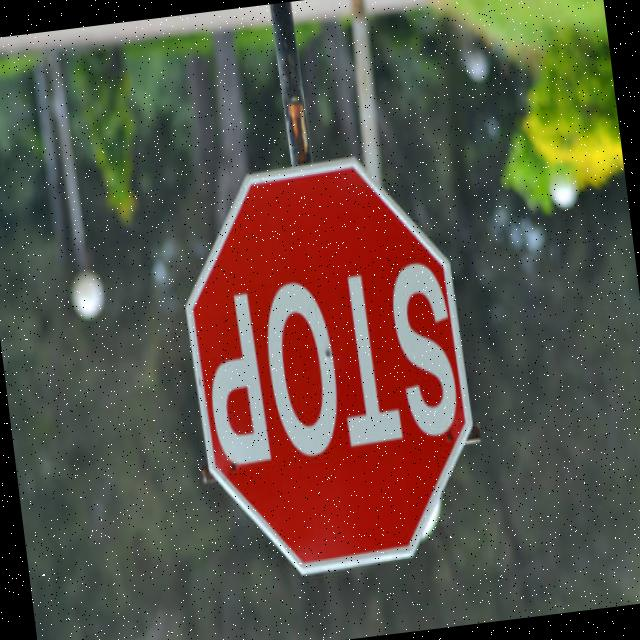stop: (162, 139, 492, 592)
